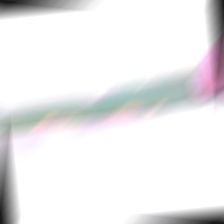Leaf_Blast: (18, 91, 176, 134)
